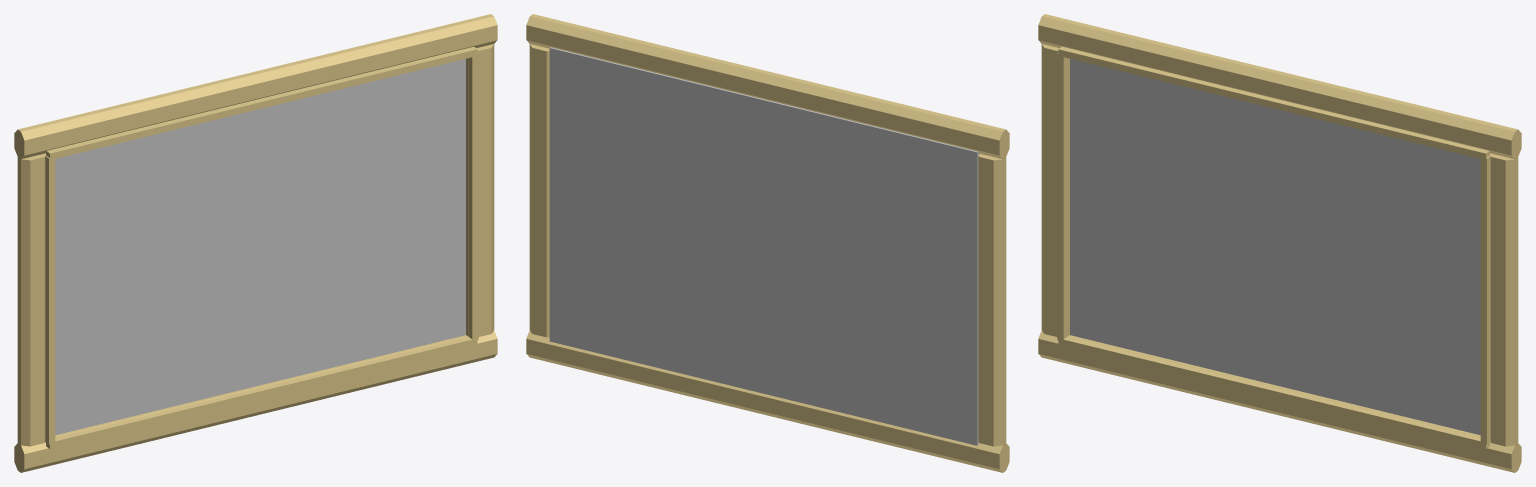
The model's file is clutter_painting_landscape.glb.
The picture shows the model from 3 angles, left to right: view 1: azimuth 30°, elevation 25°; view 2: azimuth 150°, elevation 25°; view 3: azimuth 330°, elevation 25°; orthographic projection.
Visible parts, largest first — view 1: clutter_painting_landscape; view 2: clutter_painting_landscape; view 3: clutter_painting_landscape.
Part boxes in pixels (x1,y1,x2,y2): clutter_painting_landscape: (14, 14, 497, 472); clutter_painting_landscape: (526, 14, 1009, 472); clutter_painting_landscape: (1038, 14, 1521, 472).
Bounding box in the file's own units: 1.35 × 0.93 × 0.064.
